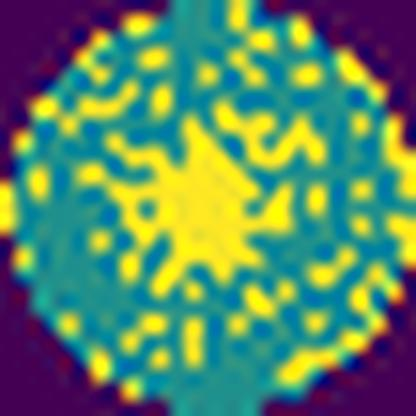Center: (76, 110, 298, 302)
